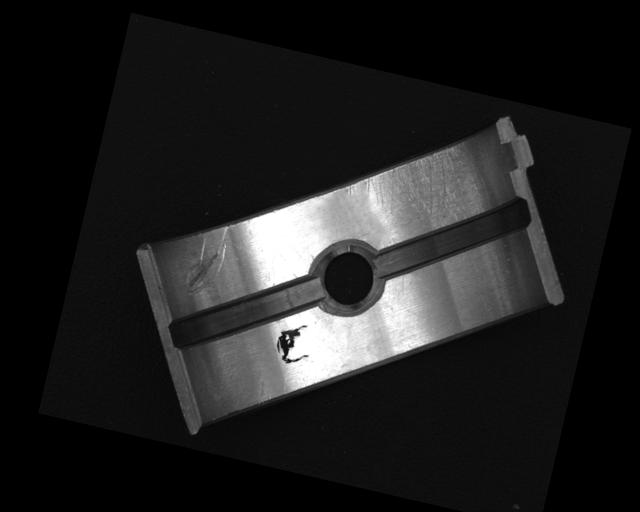blot: (271, 313, 317, 369)
gap: (371, 168, 535, 307), (165, 248, 326, 376)
hole: (302, 233, 392, 323)
nick: (177, 215, 232, 302)
scratch: (340, 118, 500, 239)
